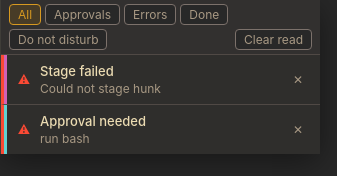
it: F41: a blocking error is NOT under the Approvals filter, but is under Errors
Click the button "Approvals". click: {"x": 83, "y": 14}
box: [45,4,120,25]
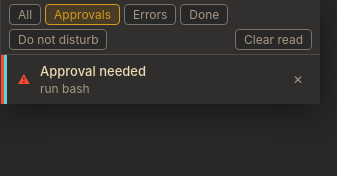
Expected: the text "Approval needed" is shown, [40,63,146,79]
Expected: the button "Stage failed" is gone
Click the button "Errors". click: {"x": 150, "y": 14}
box: [124,4,176,25]
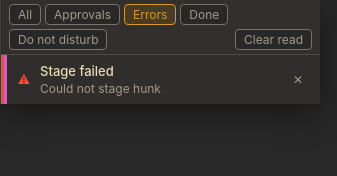
Expected: the text "Stage failed" is shown, [40,63,114,79]
Expected: the button "Approval needed" is gone
